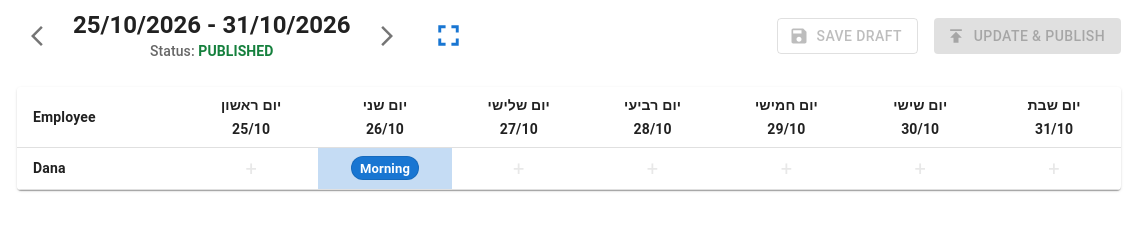
ShiftSchedulePage: loading the week › clears the previous week's schedule as soon as the week changes
Click the button named "Next week" at (386, 36), box top-left (366, 16), bottom-right (406, 56)
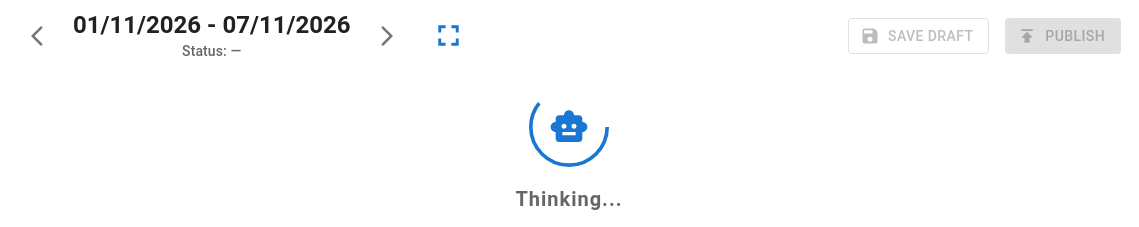
Expected: the text "PUBLISHED" is gone
